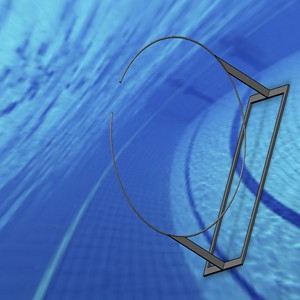circle: (104, 30, 292, 278)
